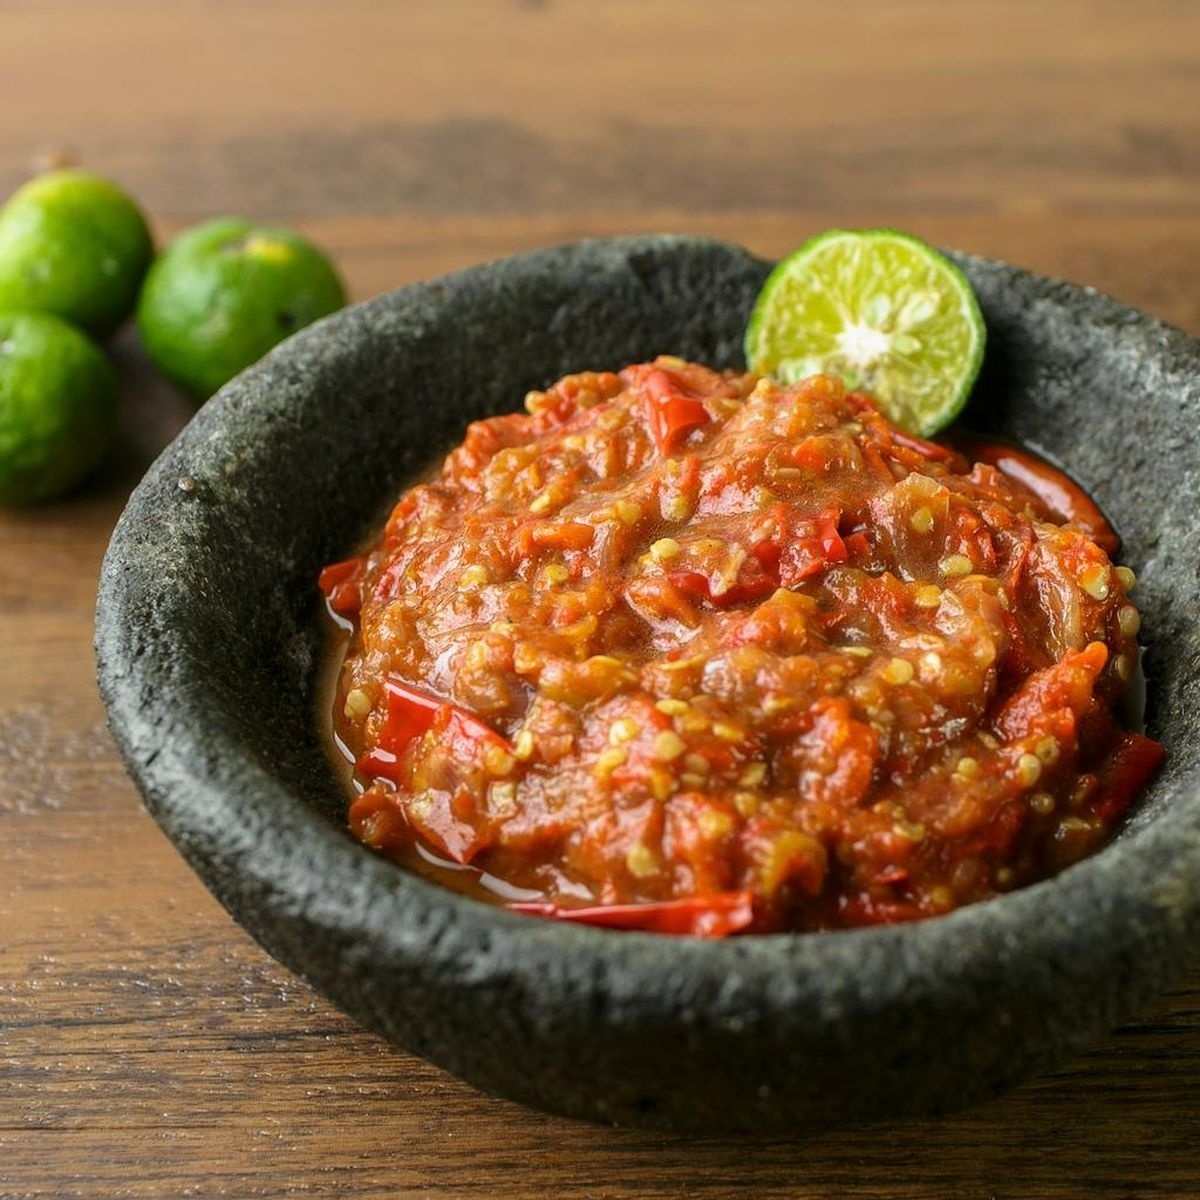sambal: (313, 356, 1142, 927)
